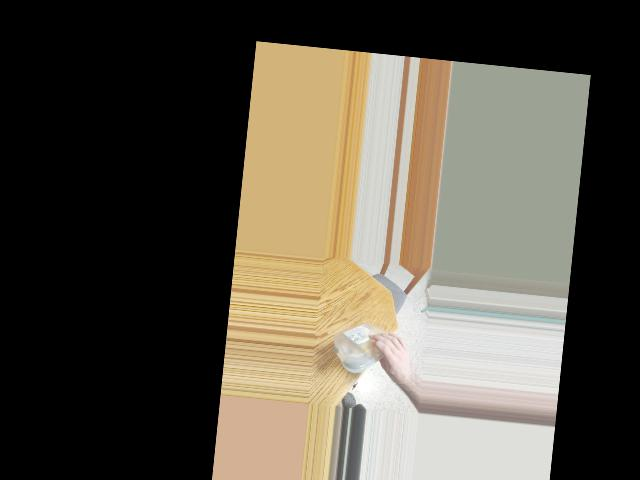cheese: (329, 316, 399, 375)
